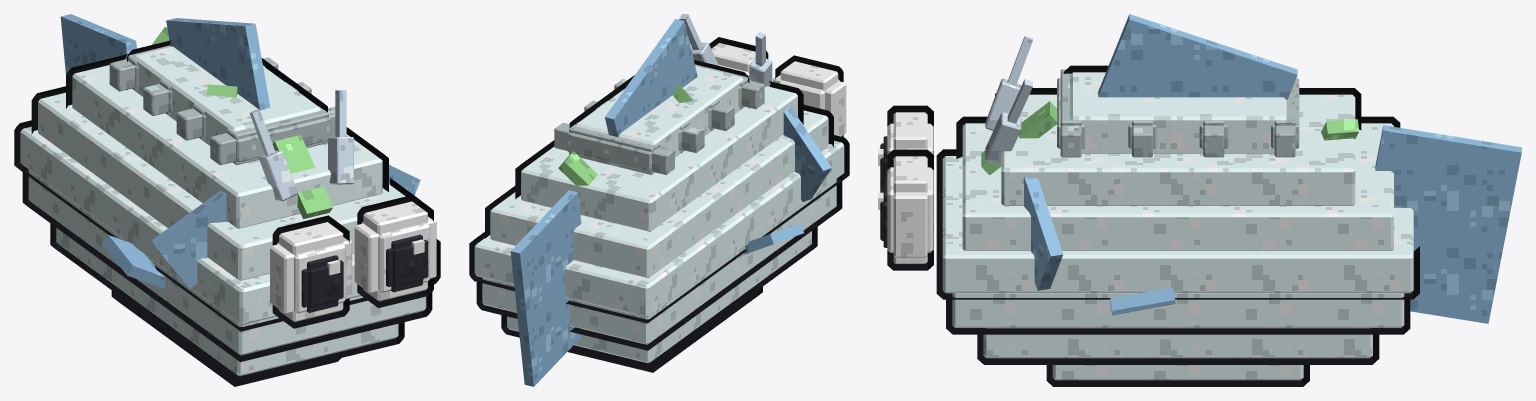
The model's file is snow_puffer_04.glb.
The picture shows the model from 3 angles, left to right: view 1: azimuth 30°, elevation 25°; view 2: azimuth 150°, elevation 25°; view 3: azimuth 270°, elevation 25°; orthographic projection. The views are drawn at different scales.
Visible parts, largest first — view 1: model; view 2: model; view 3: model.
Part boxes in pixels (bbox=[...]): model: bbox=[14, 14, 440, 386]; model: bbox=[469, 14, 849, 386]; model: bbox=[878, 14, 1521, 386].
Bounding box in the file's own units: 0.9211 × 1.07 × 1.81.
9 materials, 8 textured.
